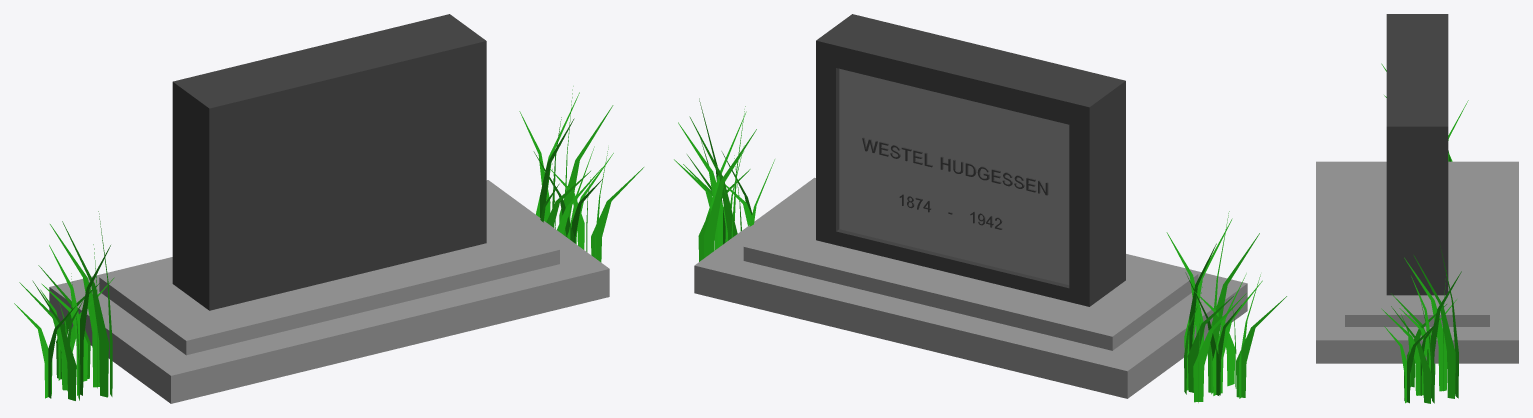
The model's file is Gravestone.fbx.
3 renders of one model, left to right at view 1: azimuth 30°, elevation 25°; view 2: azimuth 150°, elevation 25°; view 3: azimuth 270°, elevation 25°, orthographic. The views are drawn at different scales.
Parts seen in each view (by area): view 1: node_id47 (×10); view 2: node_id47 (×14); view 3: node_id47 (×14).
Part boxes in pixels (x1,y1,x2,y2): node_id47 (×10): (32, 14, 643, 403); node_id47 (×14): (678, 14, 1286, 402); node_id47 (×14): (1316, 14, 1518, 403).
Size of the model in its own units: 0.512 by 0.219 by 0.1758.
